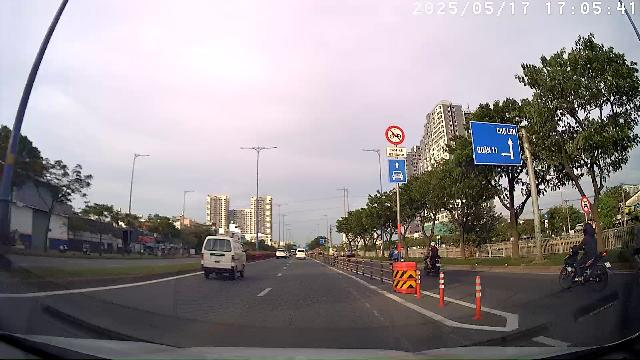103a-cam-oto: (580, 195, 590, 212)
